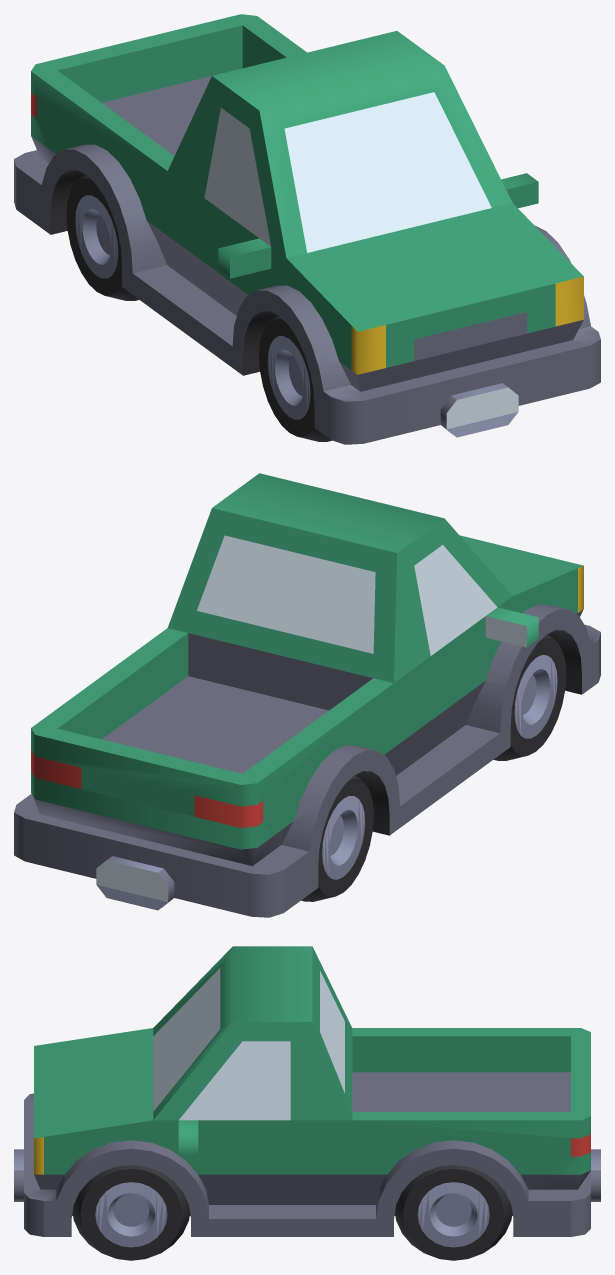
File: truck.glb
3 renders of one model, top to bottom at view 1: azimuth 30°, elevation 25°; view 2: azimuth 150°, elevation 25°; view 3: azimuth 270°, elevation 25°, orthographic. The views are drawn at different scales.
Parts seen in each view (by area): view 1: body, wheel-front-right, wheel-back-right; view 2: body, wheel-front-right, wheel-back-right; view 3: body, wheel-back-left, wheel-front-left.
Part boxes in pixels (box(x1,y1,x2,y2)): body: box(14, 14, 600, 444); wheel-front-right: box(259, 315, 331, 441); wheel-back-right: box(66, 174, 138, 300); body: box(14, 473, 600, 917); wheel-front-right: box(493, 634, 566, 760); wheel-back-right: box(301, 775, 373, 901); body: box(14, 946, 600, 1236); wheel-back-left: box(395, 1165, 512, 1260); wheel-front-left: box(72, 1165, 189, 1260).
Bounding box in the file's own units: 1.5 × 1.3 × 2.95.
